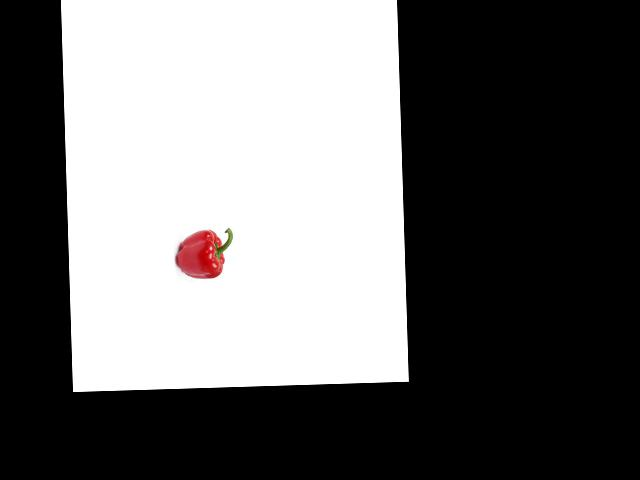bell_pepper: (174, 225, 234, 283)
